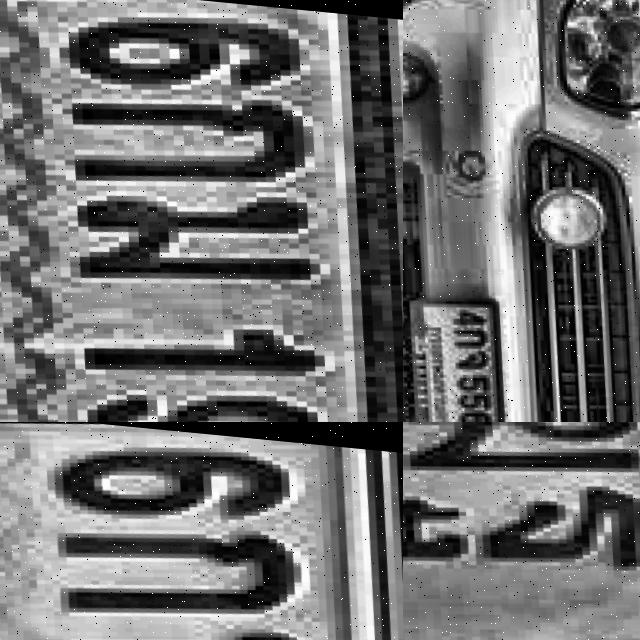license-plate: (0, 0, 403, 422), (0, 422, 403, 640), (403, 422, 640, 640), (405, 287, 519, 422)
